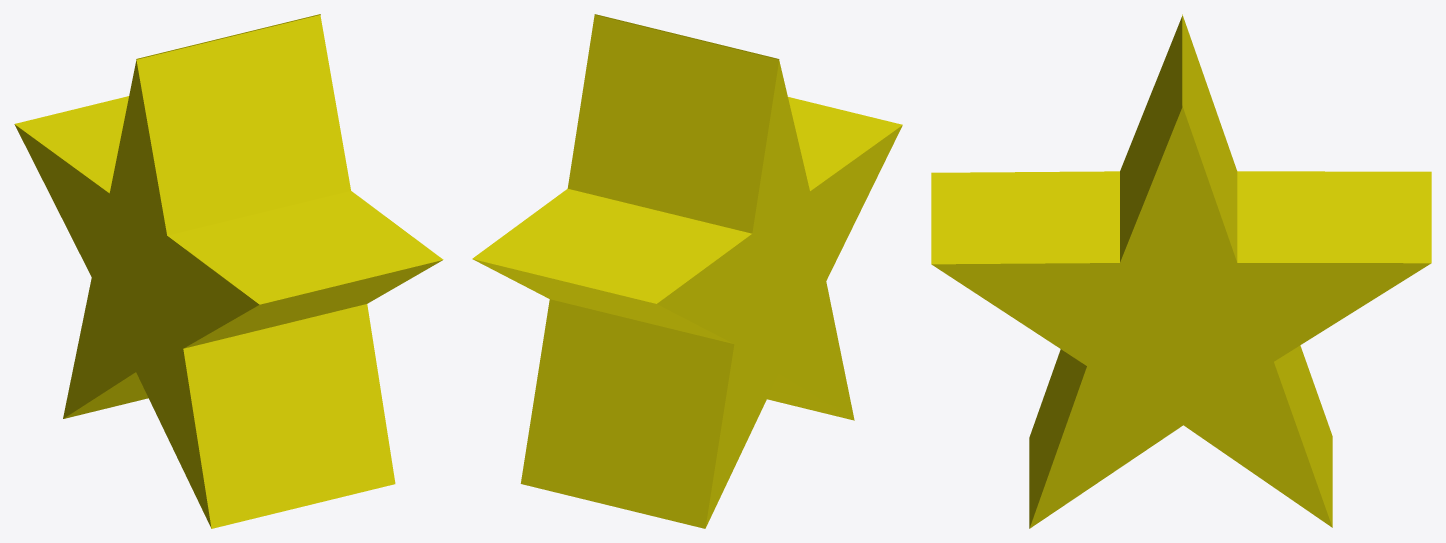
Rendered from star.dae.
3 views of the same model, side by side, from view 1: azimuth 30°, elevation 25°; view 2: azimuth 150°, elevation 25°; view 3: azimuth 270°, elevation 25° (orthographic).
Parts seen in each view (by area): view 1: Cube; view 2: Cube; view 3: Cube.
Boxes of the visible parts, x1,y1,x2,y2 form: Cube: (14,14,443,528); Cube: (472,14,902,528); Cube: (931,14,1431,528).
Bounding box in the file's own units: 2 × 4.62 × 4.31.
